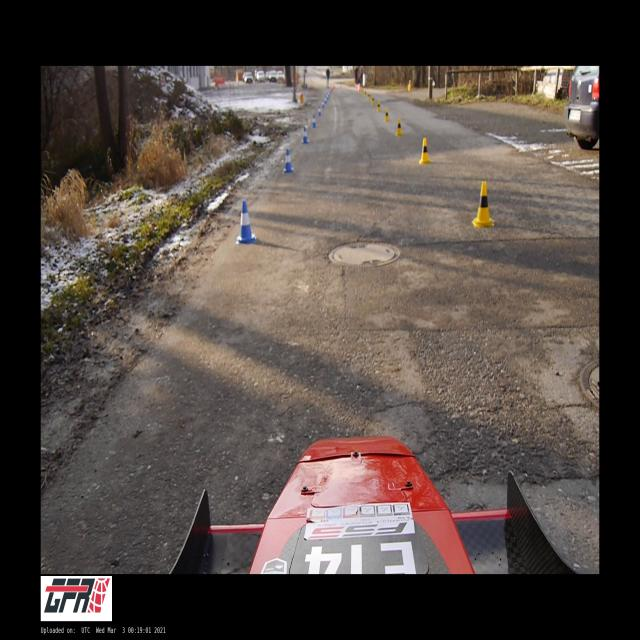blue_cone: (236, 200, 257, 244), (283, 148, 294, 172), (302, 127, 309, 143), (312, 114, 316, 128), (318, 106, 321, 116), (322, 101, 324, 108), (324, 97, 326, 104)
yellow_cone: (472, 182, 494, 226), (419, 138, 431, 164), (396, 118, 404, 136), (384, 108, 390, 121), (377, 102, 381, 112), (372, 96, 375, 104), (368, 94, 371, 100)
